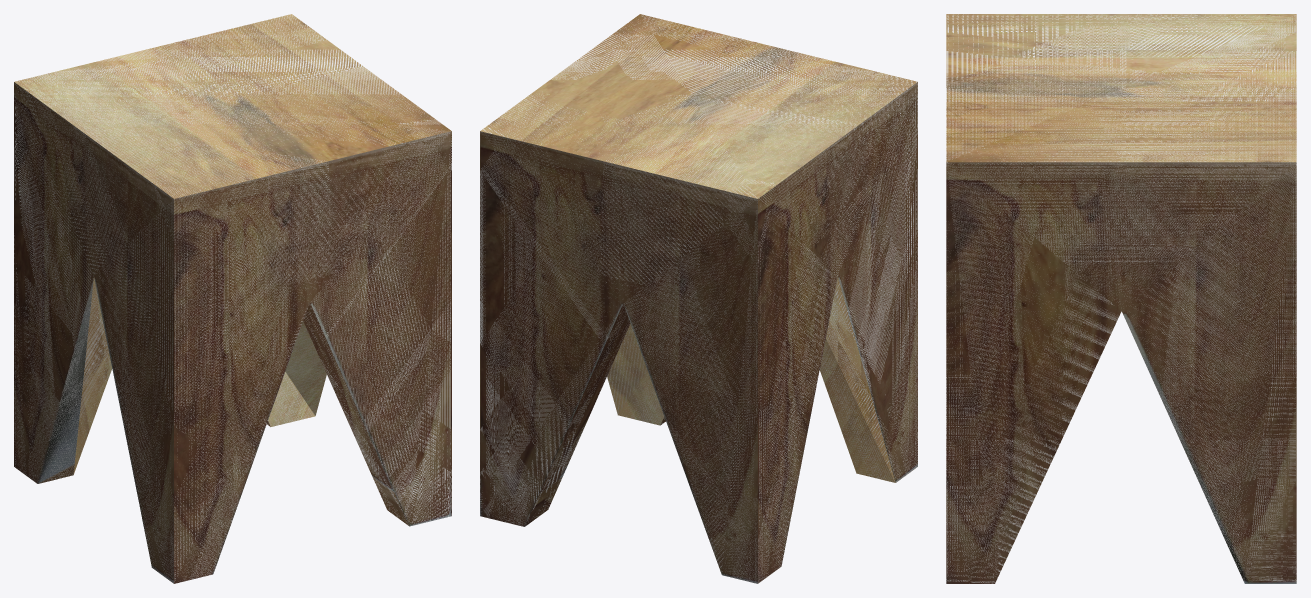
The model's file is table_bedside.dae.
3 views of the same model, side by side, from view 1: azimuth 30°, elevation 25°; view 2: azimuth 150°, elevation 25°; view 3: azimuth 270°, elevation 25° (orthographic). The views are drawn at different scales.
Visible parts, largest first — view 1: SketchUp (×3); view 2: SketchUp (×3); view 3: SketchUp (×2).
Boxes of the visible parts, bbox=[...] form: SketchUp (×3): bbox=[14, 14, 451, 583]; SketchUp (×3): bbox=[480, 14, 917, 583]; SketchUp (×2): bbox=[946, 14, 1296, 583].
Size of the model in its own units: 0.3403 by 0.3395 by 0.4506.
Materials: 3 (2 with a texture image).
